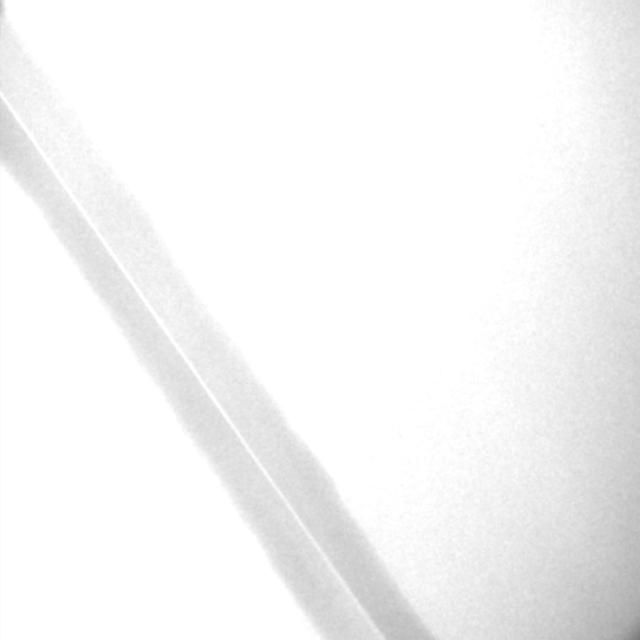broken arc: (1, 94, 380, 637)
